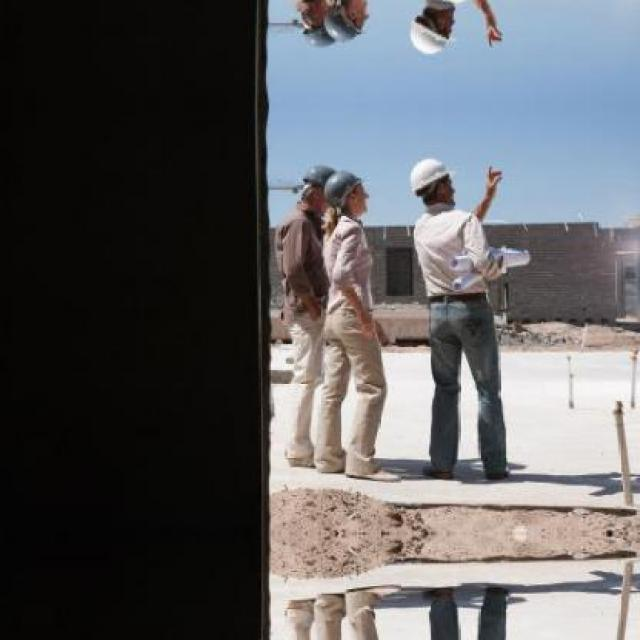boots: (345, 468, 402, 482), (423, 466, 453, 478), (485, 466, 510, 478)
hard-hat: (323, 169, 361, 207), (410, 158, 450, 194), (302, 165, 334, 187)
person: (409, 158, 511, 481), (313, 170, 402, 482), (275, 164, 337, 468)
